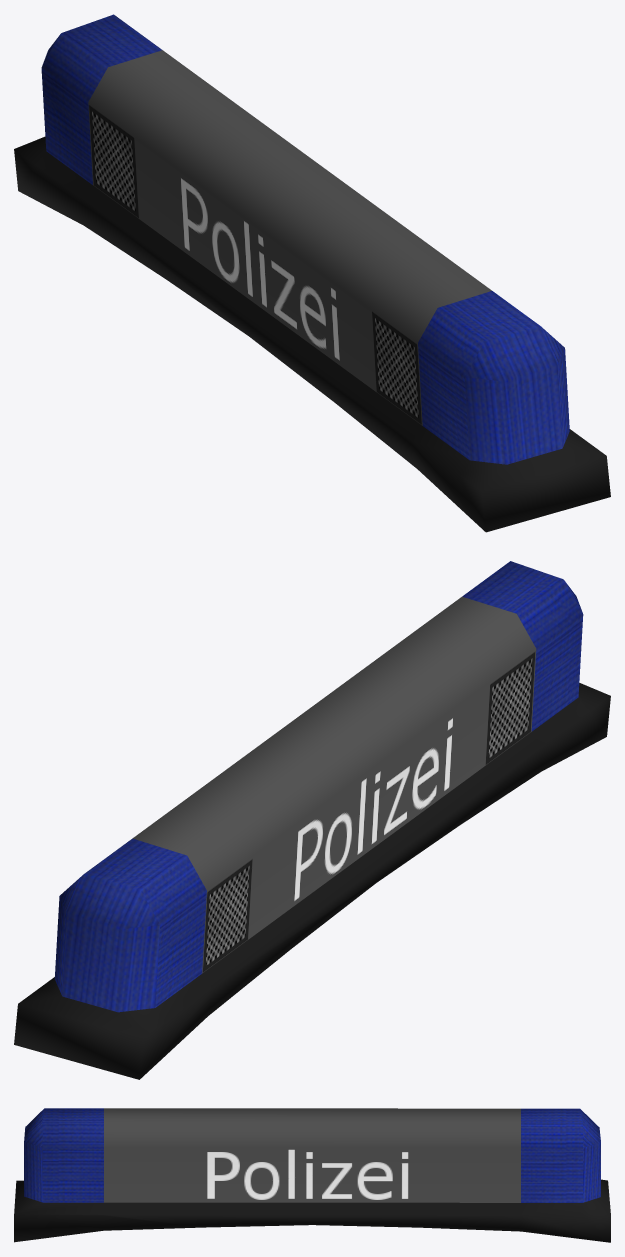
File: policecar sign.obj
The picture shows the model from 3 angles, top to bottom: view 1: azimuth 30°, elevation 25°; view 2: azimuth 150°, elevation 25°; view 3: azimuth 270°, elevation 25°; orthographic projection. The views are drawn at different scales.
Parts seen in each view (by area): view 1: Default; view 2: Default; view 3: Default.
Boxes of the visible parts, bbox=[...] form: Default: bbox=[14, 14, 610, 532]; Default: bbox=[14, 561, 610, 1079]; Default: bbox=[14, 1108, 610, 1242].
Size of the model in its own units: 0.2213 by 0.2876 by 1.42.
Materials: 1 (1 with a texture image).
